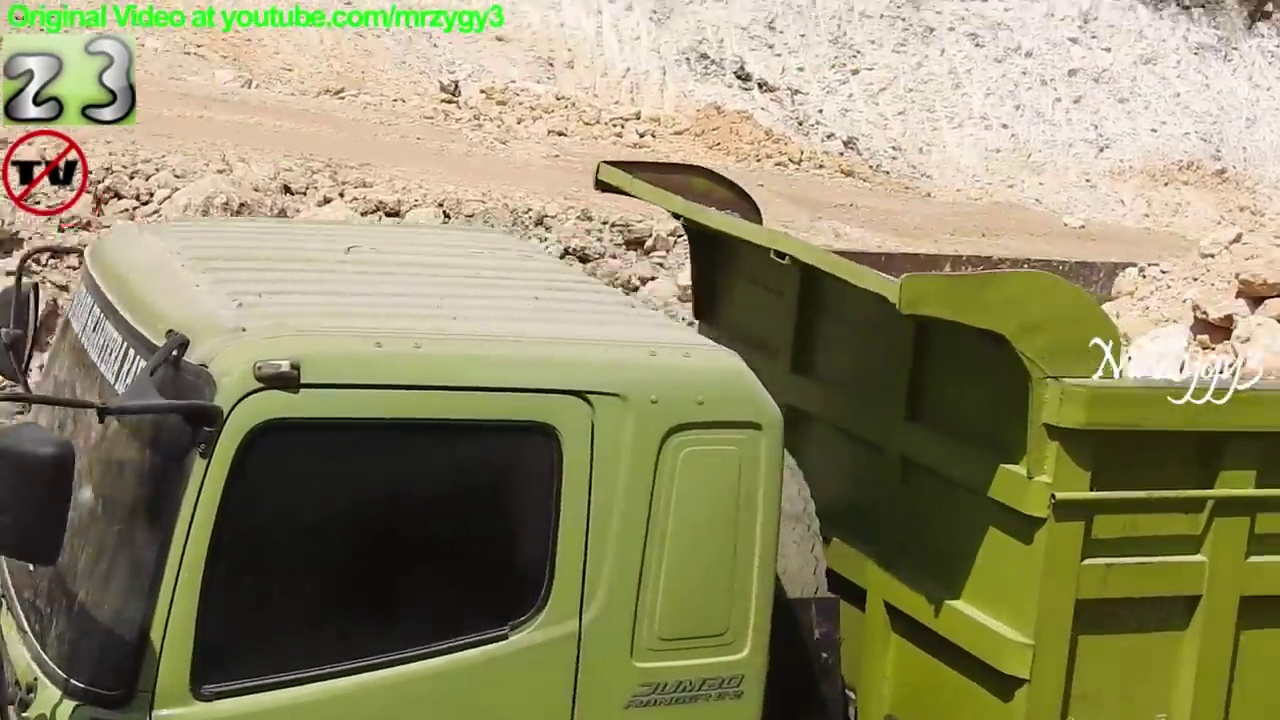truck: (1, 155, 1280, 720)
